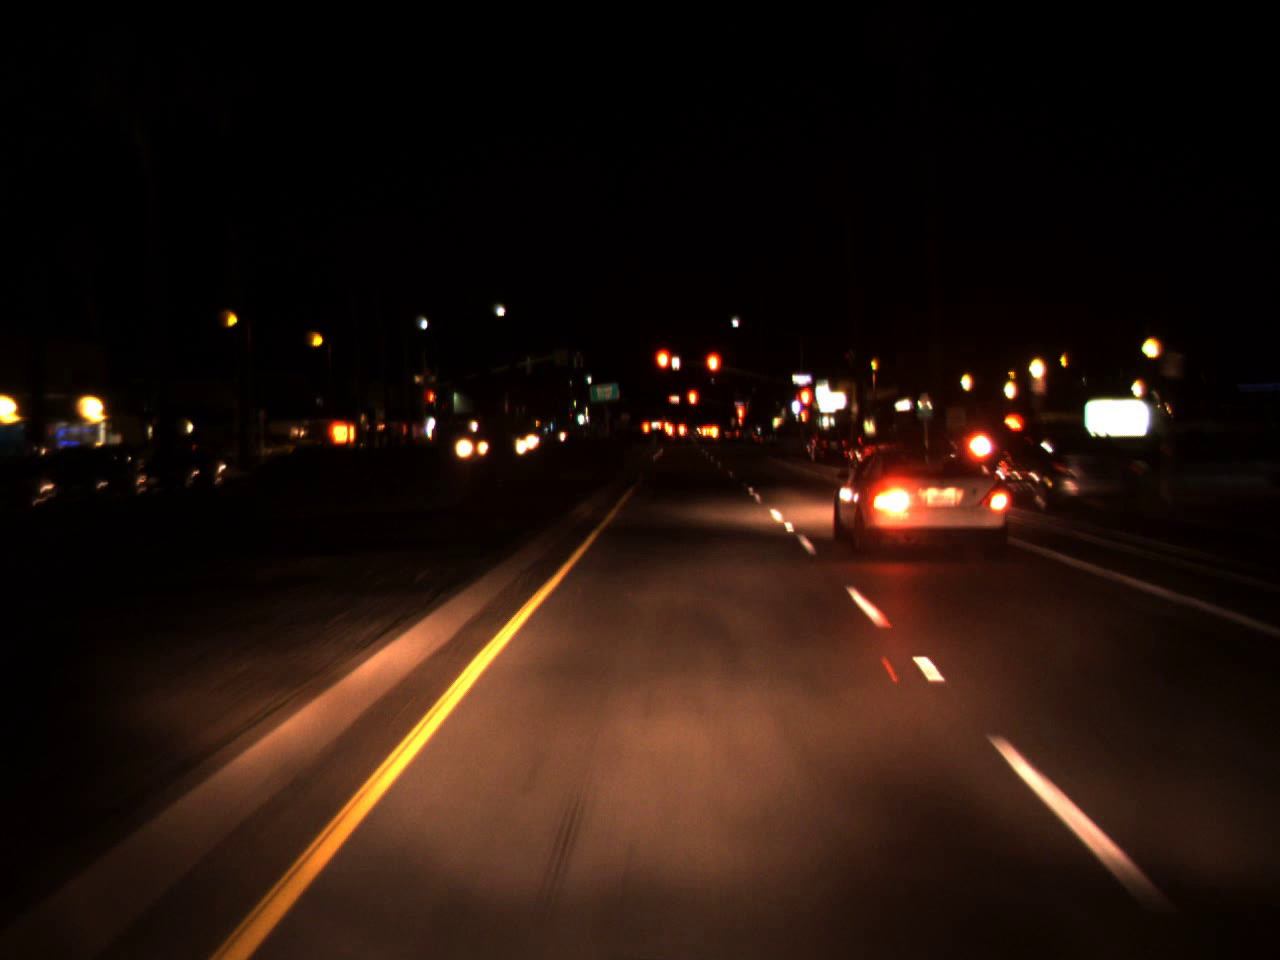stop: (797, 383, 815, 431), (653, 346, 672, 391), (703, 350, 722, 393), (685, 386, 700, 423), (736, 401, 745, 449), (426, 389, 435, 416)
